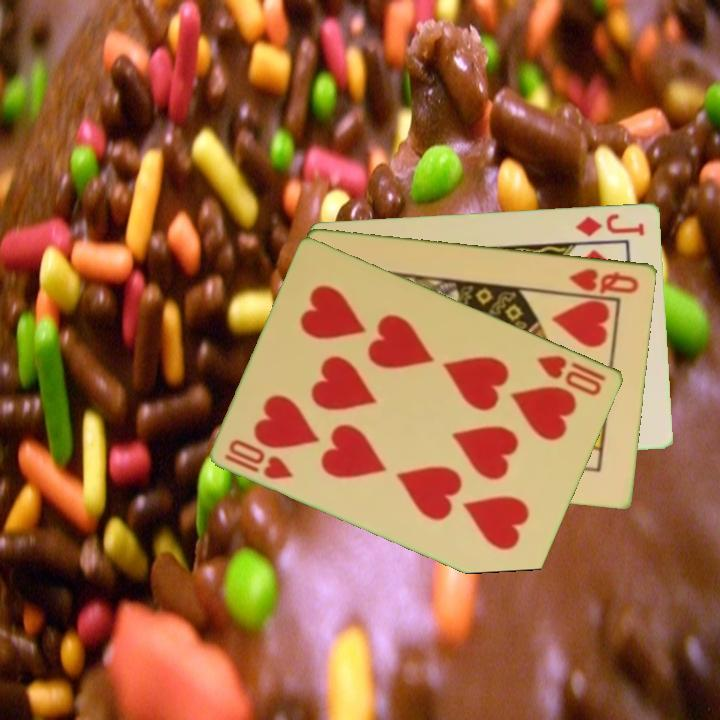10h: (221, 435, 298, 482), (533, 351, 605, 399)
Jd: (572, 209, 648, 239)
Qh: (566, 264, 642, 296)
